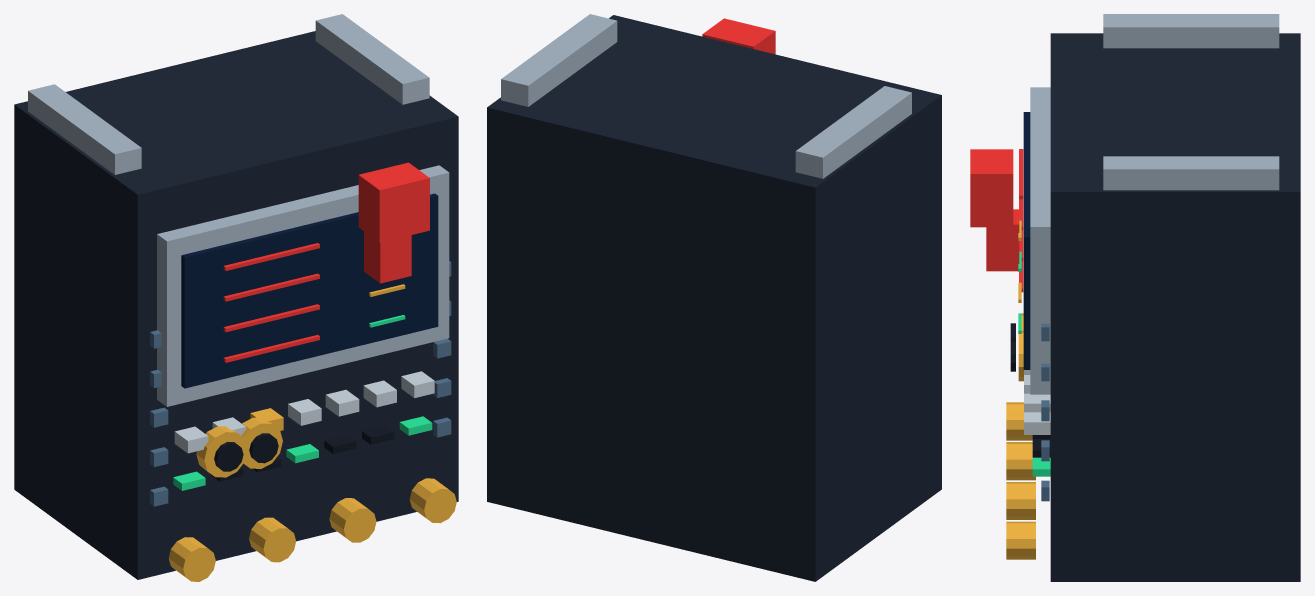
Rendered from 68_L85_AsymmetricLatchFaultEmulator.fbx.
The picture shows the model from 3 angles, left to right: view 1: azimuth 30°, elevation 25°; view 2: azimuth 150°, elevation 25°; view 3: azimuth 270°, elevation 25°; orthographic projection. The views are drawn at different scales.
Visible parts, largest first — view 1: L85_AsymmetricLatchFaultEmulator, L85_AsymmetricLatchFaultEmulator_Part_0009, L85_AsymmetricLatchFaultEmulator_Part_0010, L85_AsymmetricLatchFaultEmulator_Part_0012, L85_AsymmetricLatchFaultEmulator_Part_0013, L85_AsymmetricLatchFaultEmulator_Part_0011; view 2: L85_AsymmetricLatchFaultEmulator, L85_AsymmetricLatchFaultEmulator_Part_0009; view 3: L85_AsymmetricLatchFaultEmulator, L85_AsymmetricLatchFaultEmulator_Part_0009.
Part boxes in pixels (x1,y1,x2,y2): L85_AsymmetricLatchFaultEmulator: (14, 14, 458, 581); L85_AsymmetricLatchFaultEmulator_Part_0009: (358, 162, 429, 242); L85_AsymmetricLatchFaultEmulator_Part_0010: (196, 426, 245, 477); L85_AsymmetricLatchFaultEmulator_Part_0012: (240, 417, 282, 468); L85_AsymmetricLatchFaultEmulator_Part_0013: (249, 433, 278, 463); L85_AsymmetricLatchFaultEmulator_Part_0011: (214, 441, 243, 471); L85_AsymmetricLatchFaultEmulator: (487, 14, 941, 581); L85_AsymmetricLatchFaultEmulator_Part_0009: (702, 18, 775, 54); L85_AsymmetricLatchFaultEmulator: (986, 14, 1300, 581); L85_AsymmetricLatchFaultEmulator_Part_0009: (970, 149, 1013, 227).
Bounding box in the file's own units: 95.88 × 116 × 84.46.
